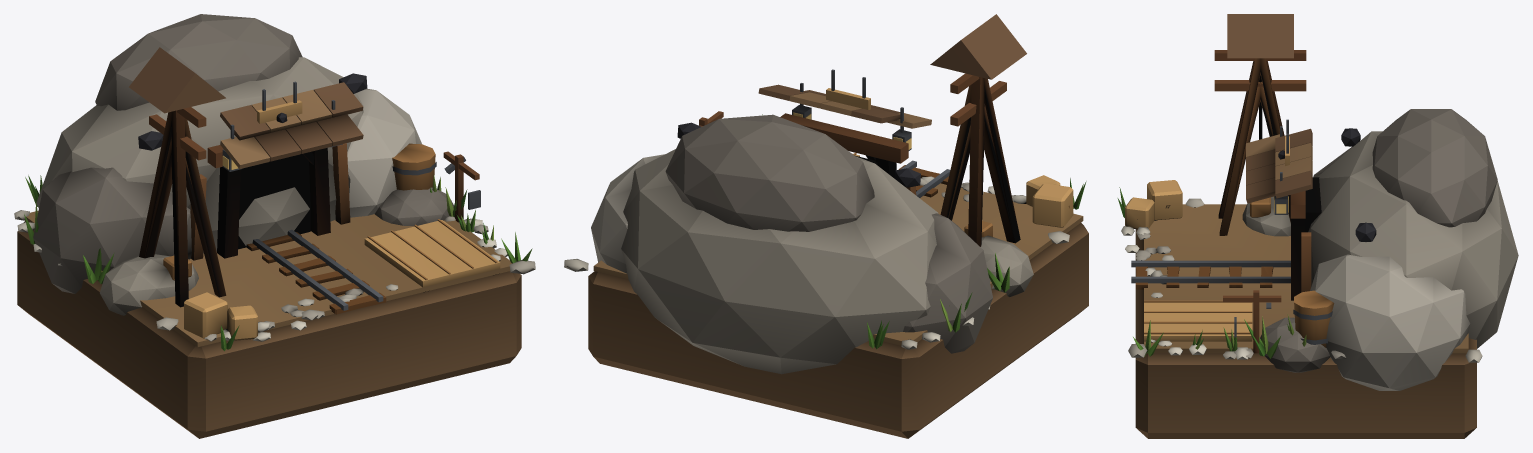
Rendered from mine.glb.
The picture shows the model from 3 angles, left to right: view 1: azimuth 30°, elevation 25°; view 2: azimuth 150°, elevation 25°; view 3: azimuth 270°, elevation 25°; orthographic projection. The views are drawn at different scales.
Parts seen in each view (by area): view 1: mine_l1, mine_l3, mine_l2; view 2: mine_l1, mine_l3, mine_l2; view 3: mine_l1, mine_l3, mine_l2.
Part boxes in pixels (x1,y1,x2,y2): mine_l1: (17, 14, 532, 438); mine_l3: (14, 47, 535, 332); mine_l2: (24, 124, 496, 351); mine_l1: (588, 69, 1088, 438); mine_l3: (677, 14, 1069, 349); mine_l2: (564, 107, 1086, 349); mine_l1: (1131, 80, 1518, 438); mine_l3: (1125, 14, 1376, 359); mine_l2: (1117, 126, 1482, 362).
Bounding box in the file's own units: 0.9673 × 0.8 × 0.964.
